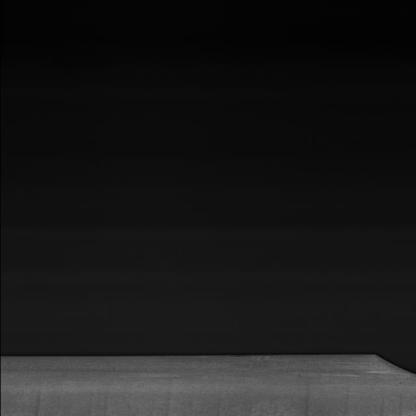crescent_gap: (353, 347, 416, 384)
